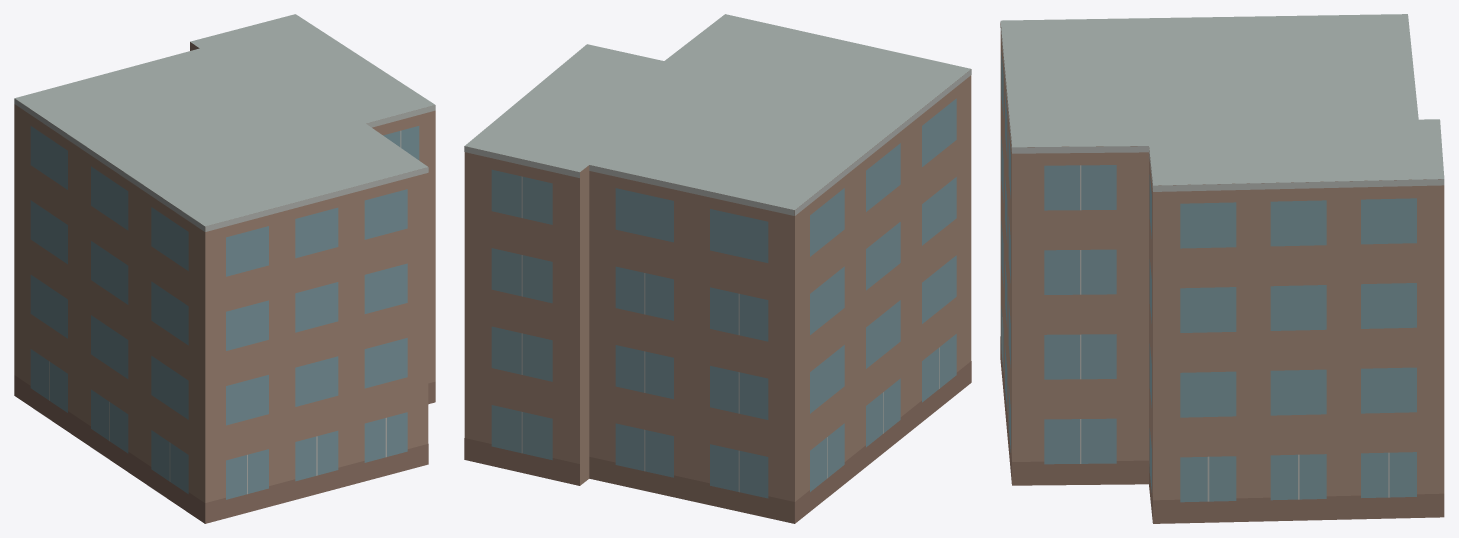
The model's file is survey-upis-32970708.glb.
3 renders of one model, left to right at view 1: azimuth 30°, elevation 25°; view 2: azimuth 150°, elevation 25°; view 3: azimuth 270°, elevation 25°, orthographic. The views are drawn at different scales.
Visible parts, largest first — view 1: survey-upis-32970708.tmp; view 2: survey-upis-32970708.tmp; view 3: survey-upis-32970708.tmp.
Boxes of the visible parts, <box> form: survey-upis-32970708.tmp: <box>14,14,435,523</box>; survey-upis-32970708.tmp: <box>464,14,971,523</box>; survey-upis-32970708.tmp: <box>1000,14,1444,523</box>.
Bounding box in the file's own units: 13.93 × 12.8 × 15.23.
